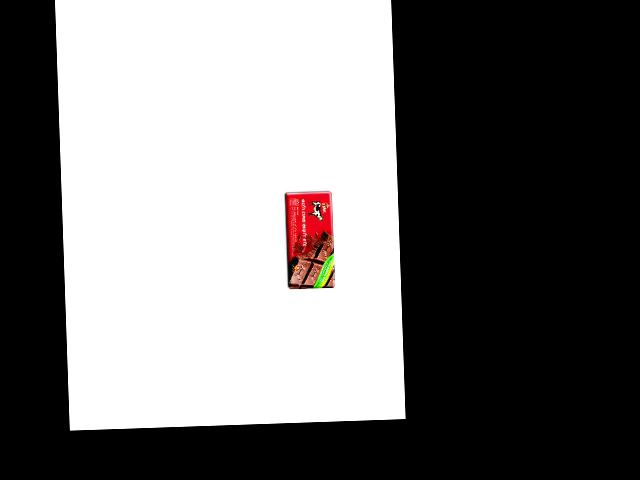chocolate: (280, 187, 336, 289)
